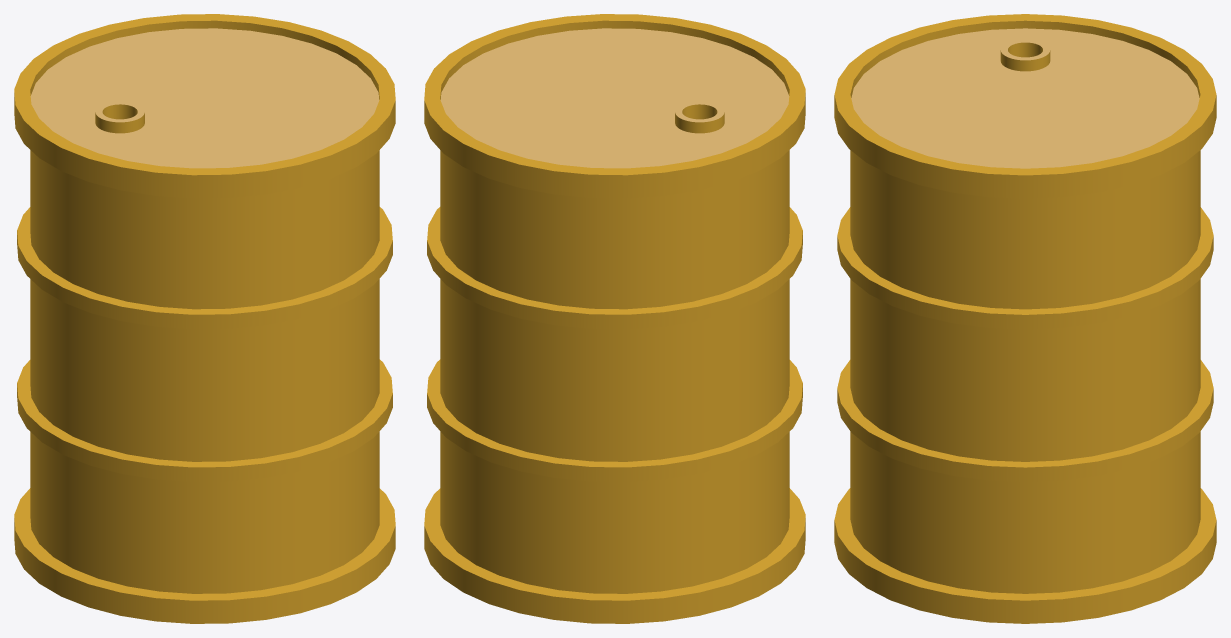
Rendered from barrel.fbx.
3 renders of one model, left to right at view 1: azimuth 30°, elevation 25°; view 2: azimuth 150°, elevation 25°; view 3: azimuth 270°, elevation 25°, orthographic.
Visible parts, largest first — view 1: barrel; view 2: barrel; view 3: barrel.
Part boxes in pixels (x1=…): barrel: x1=14, y1=14, x2=395, y2=623; barrel: x1=424, y1=14, x2=805, y2=623; barrel: x1=834, y1=14, x2=1216, y2=623.
Bounding box in the file's own units: 2.35 × 2.35 × 3.06.
